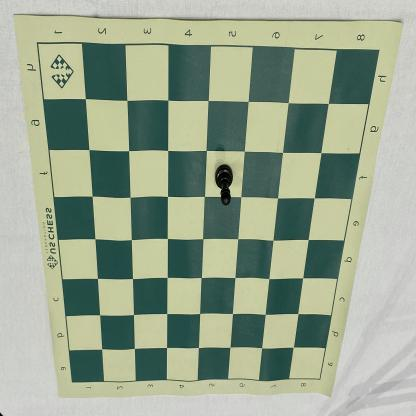black-pawn: (214, 163, 234, 208)
